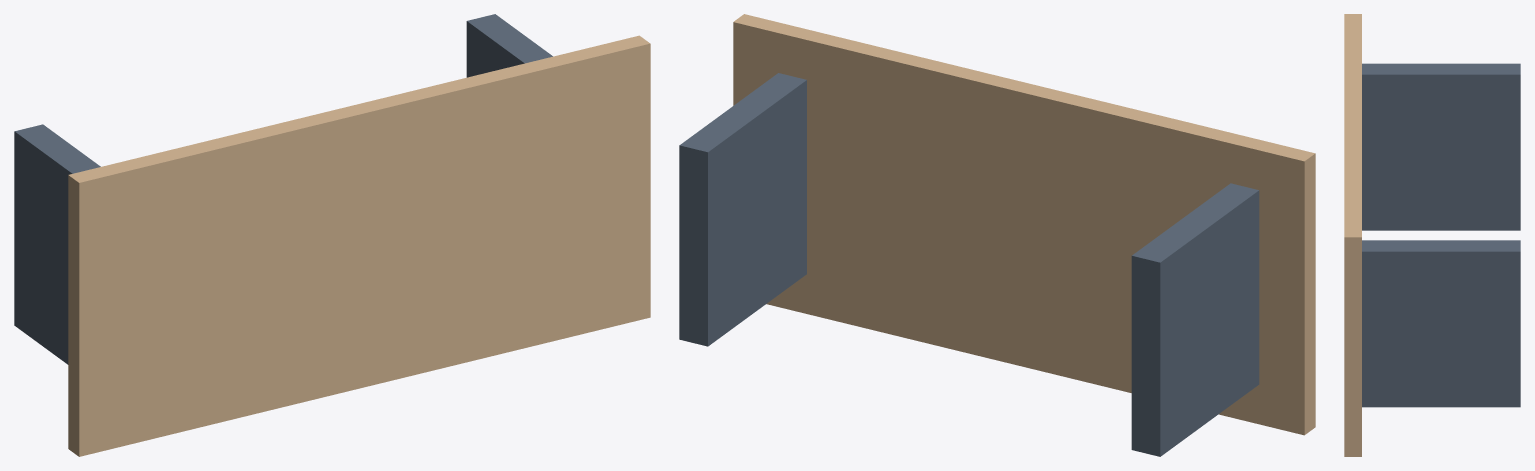
Rendered from meeting_table.glb.
3 views of the same model, side by side, from view 1: azimuth 30°, elevation 25°; view 2: azimuth 150°, elevation 25°; view 3: azimuth 270°, elevation 25° (orthographic). The views are drawn at different scales.
Parts seen in each view (by area): view 1: top_0, leg_l_1, leg_r_2; view 2: top_0, leg_l_1, leg_r_2; view 3: leg_l_1, leg_r_2, top_0.
Part boxes in pixels (x1,y1,x2,y2): top_0: (68,35,650,456); leg_l_1: (14,124,100,364); leg_r_2: (466,14,552,77); top_0: (733,14,1315,435); leg_l_1: (1131,183,1259,456); leg_r_2: (679,73,806,346); leg_l_1: (1362,63,1520,230); leg_r_2: (1362,240,1520,407); top_0: (1344,14,1361,456).
Bounding box in the file's own units: 2.4 × 1.1 × 0.8.
